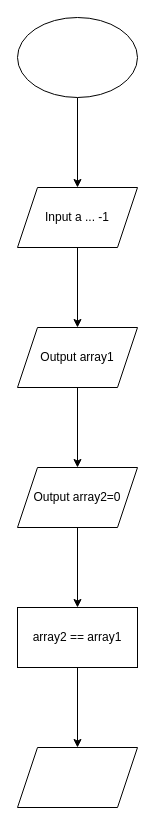
This 155x825 diagram has some shape labels left out. The box of each missing label's shape, as (x1, y1, x2, y2) in pixels:
Output array2: (16, 746, 138, 808)
Start: (16, 16, 138, 98)
